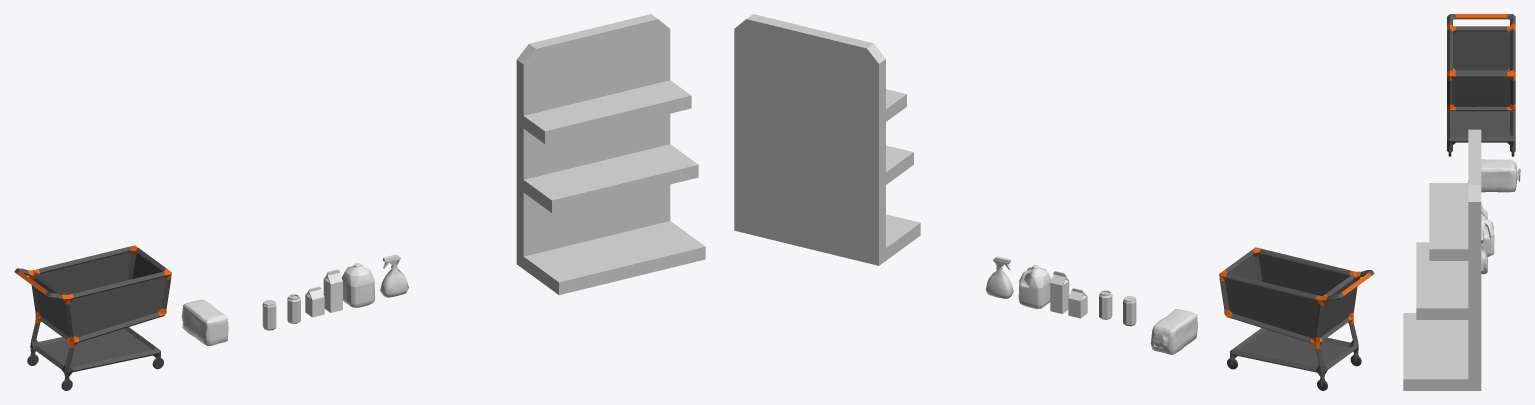
Rendered from Blob.fbx.
The picture shows the model from 3 angles, left to right: view 1: azimuth 30°, elevation 25°; view 2: azimuth 150°, elevation 25°; view 3: azimuth 270°, elevation 25°; orthographic projection. The views are drawn at different scales.
Parts seen in each view (by area): view 1: Cube.001, Cart Cleaned4, BreadBag.016, Milk_Gallon_5, SprayBottle_2x3x1_3, Milk_Pint_4.129; view 2: Cube.001, Cart Cleaned4, BreadBag.016, Milk_Gallon_5, SprayBottle_2x3x1_3, Milk_Pint_4.129; view 3: Cube.001, Cart Cleaned4, BreadBag.016, Milk_Gallon_5, SprayBottle_2x3x1_3.
Boxes of the visible parts, left/top/right/bottom form: Cube.001: left=516, top=14, right=705, bottom=294; Cart Cleaned4: left=14, top=245, right=171, bottom=390; BreadBag.016: left=181, top=299, right=228, bottom=345; Milk_Gallon_5: left=341, top=263, right=375, bottom=307; SprayBottle_2x3x1_3: left=380, top=254, right=408, bottom=297; Milk_Pint_4.129: left=323, top=269, right=342, bottom=312; Cube.001: left=734, top=14, right=920, bottom=265; Cart Cleaned4: left=1219, top=247, right=1374, bottom=390; BreadBag.016: left=1150, top=309, right=1197, bottom=354; Milk_Gallon_5: left=1018, top=265, right=1051, bottom=309; SprayBottle_2x3x1_3: left=985, top=256, right=1013, bottom=298; Milk_Pint_4.129: left=1050, top=271, right=1069, bottom=313; Cube.001: left=1403, top=129, right=1481, bottom=390; Cart Cleaned4: left=1447, top=14, right=1515, bottom=156; BreadBag.016: left=1467, top=159, right=1520, bottom=192; Milk_Gallon_5: left=1481, top=216, right=1494, bottom=256; SprayBottle_2x3x1_3: left=1481, top=229, right=1487, bottom=274.
Size of the model in its own units: 323 by 106 by 56.31.
